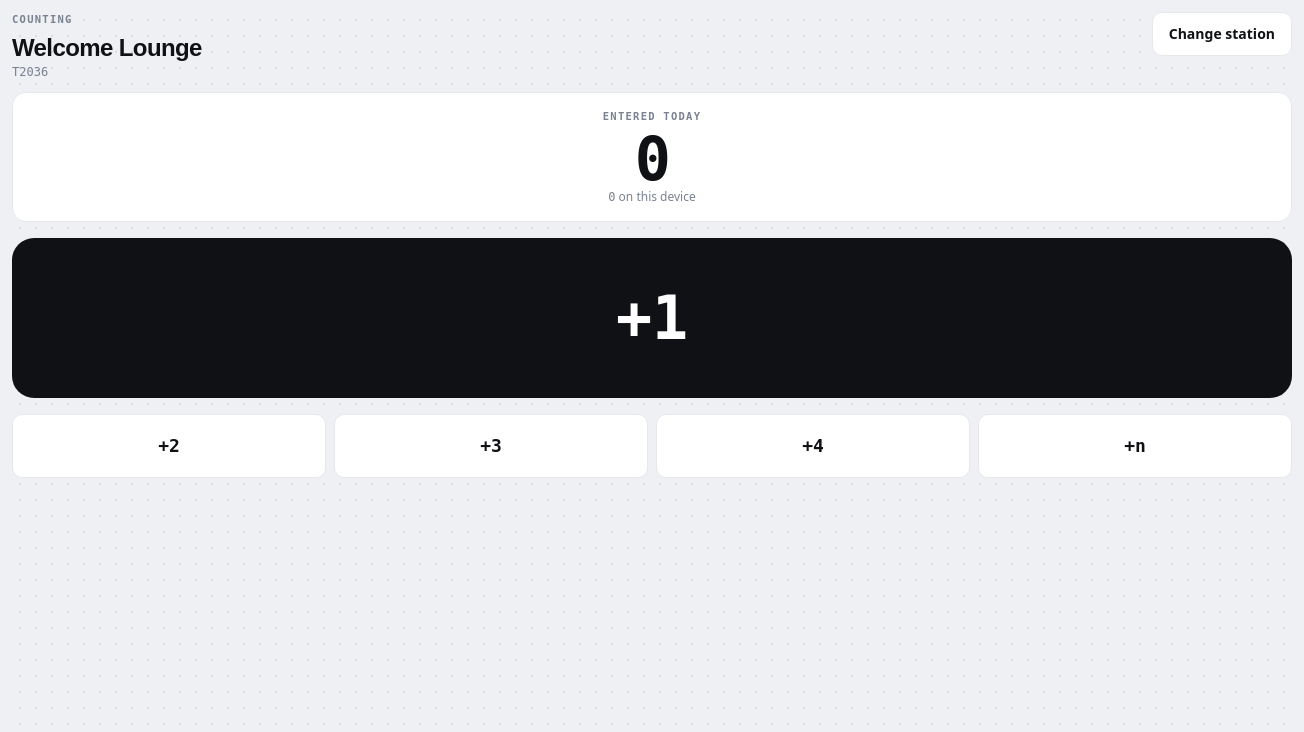
Test case: Footfall screens › FR-FOOT-1: +1 five times and +3 counts 8 people at the chosen room
expect the heading "Welcome Lounge" is shown: met, box [12,32,202,64]
expect the text "T2036" is shown: met, box [12,65,48,79]
Click the button named "Add one person": (652, 318) [12,238,1292,398]
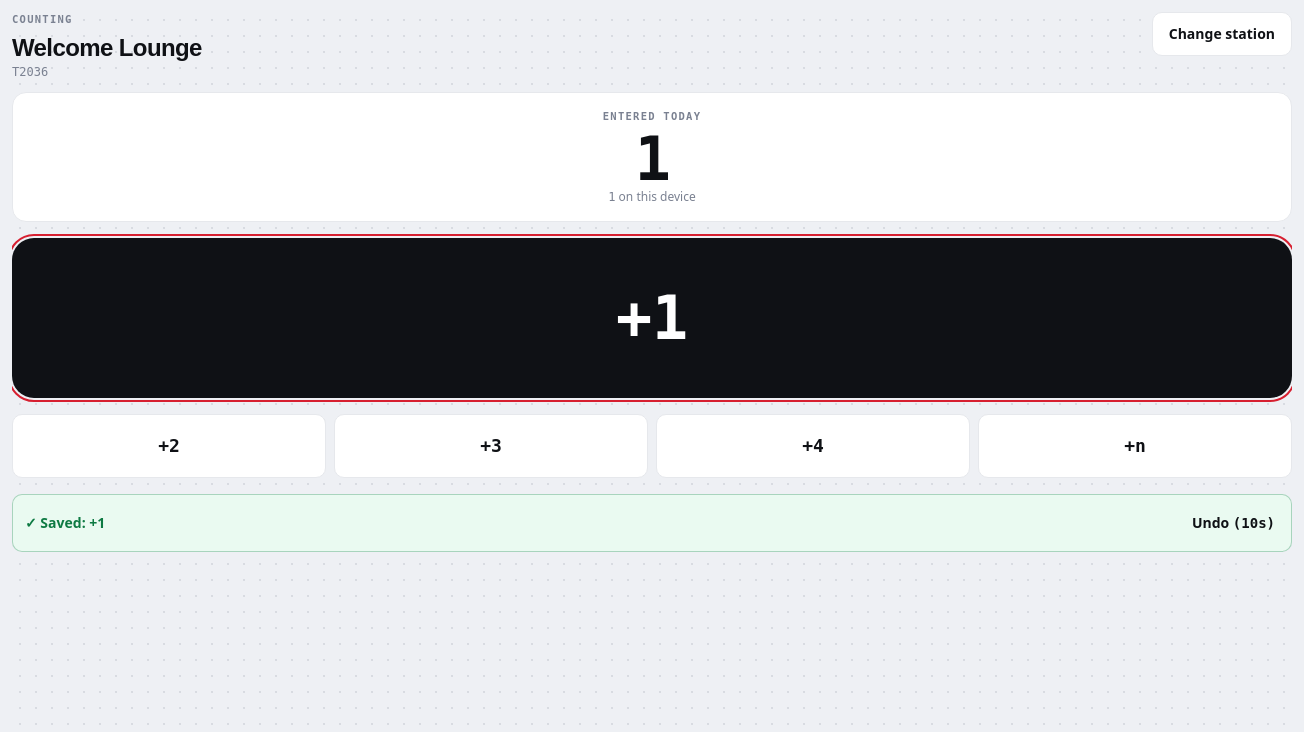
Click the button named "Add one person": (652, 318) [12,238,1292,398]
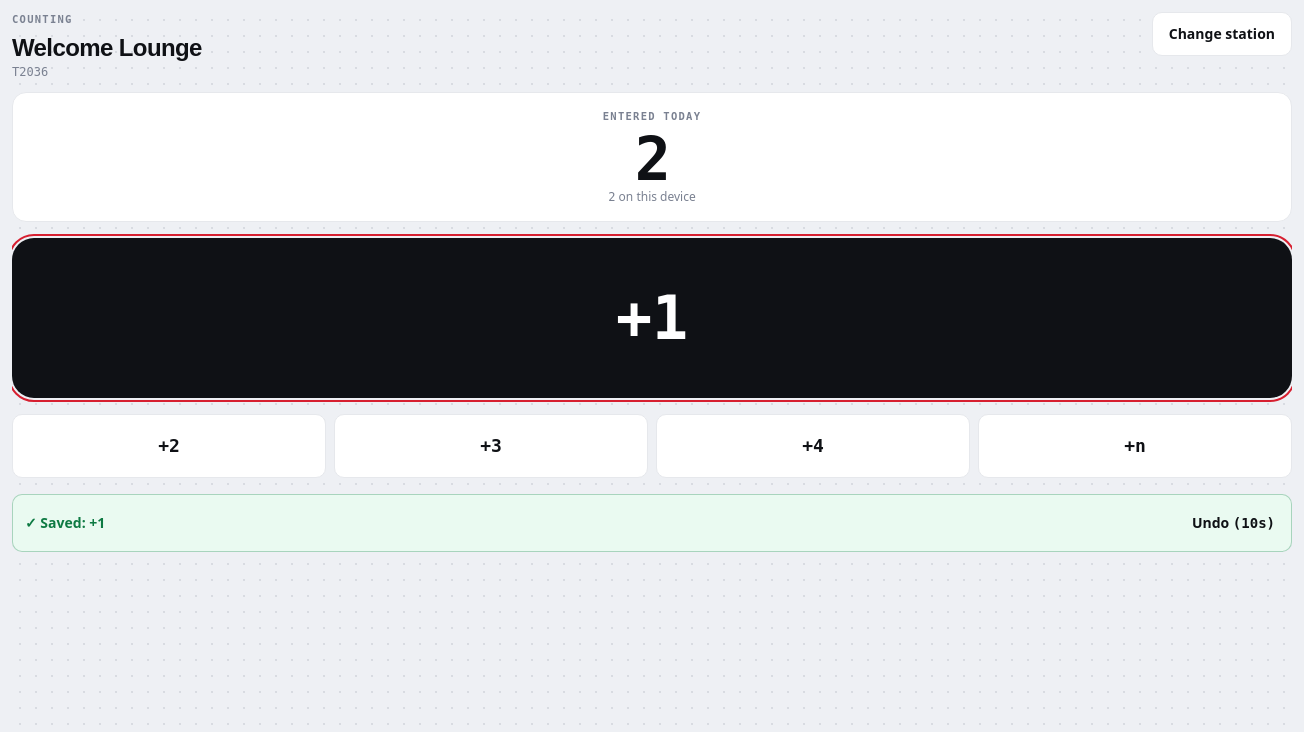
Click the button named "Add one person": (652, 318) [12,238,1292,398]
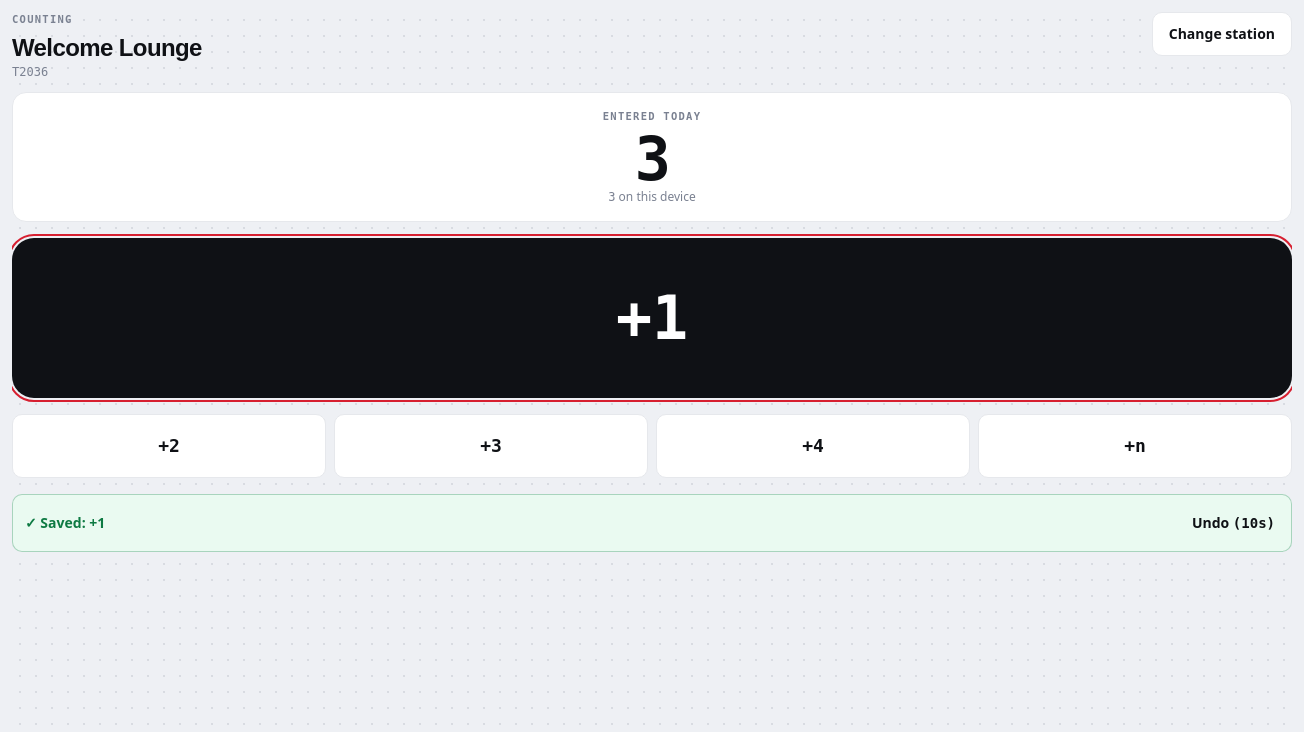
Click the button named "Add one person": (652, 318) [12,238,1292,398]
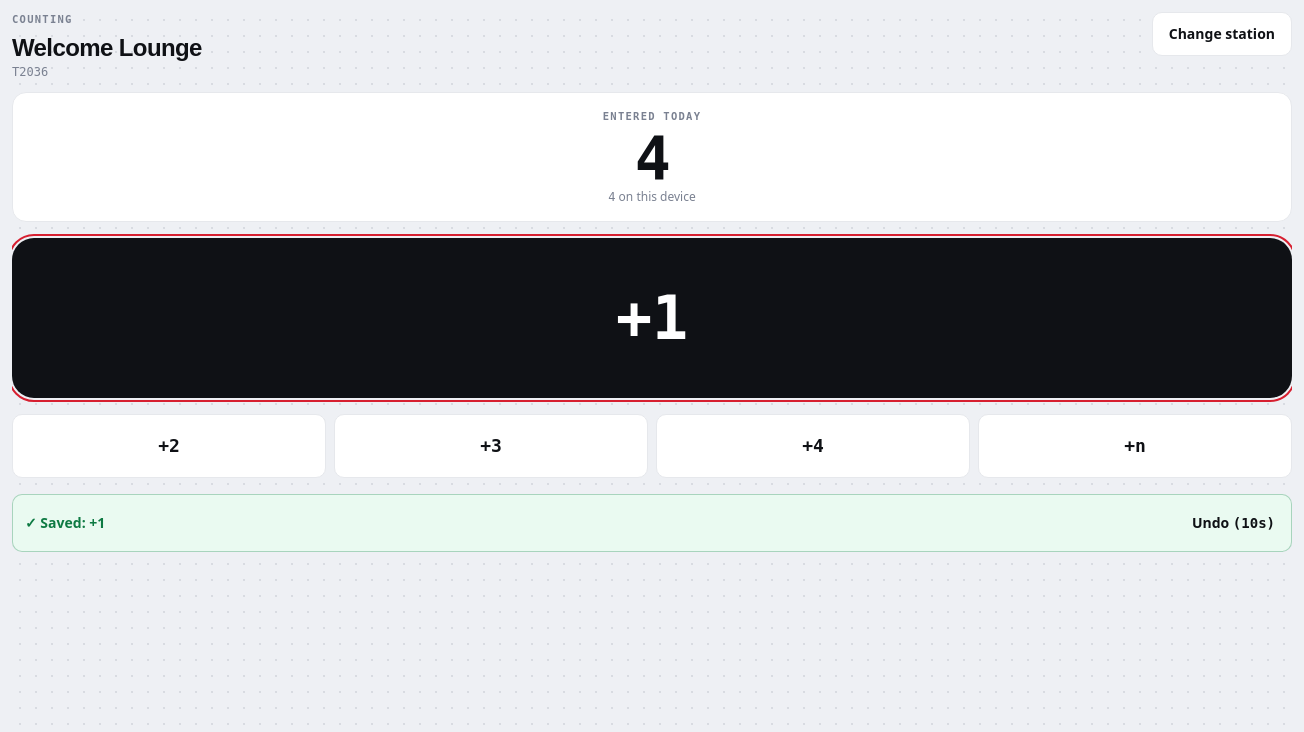
Click the button named "Add one person": (652, 318) [12,238,1292,398]
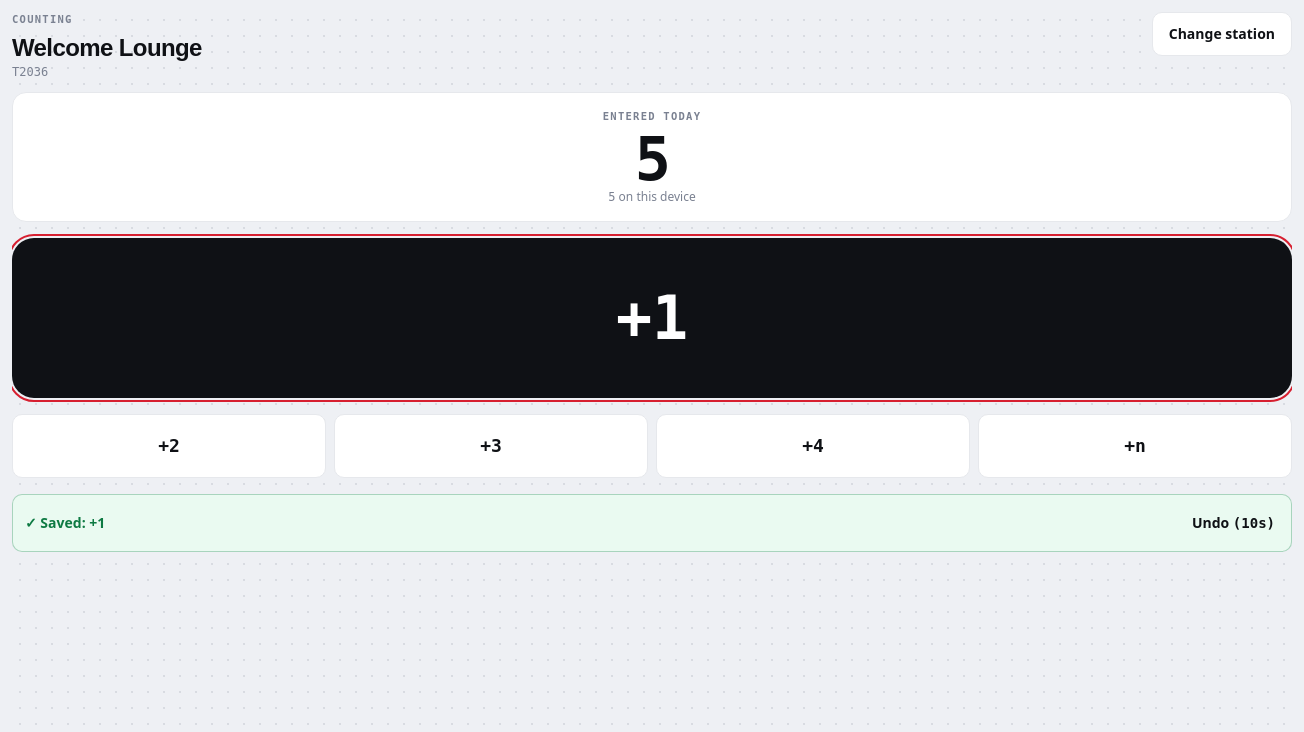
Click the button named "Add 3 people": (491, 446) [334,414,648,478]
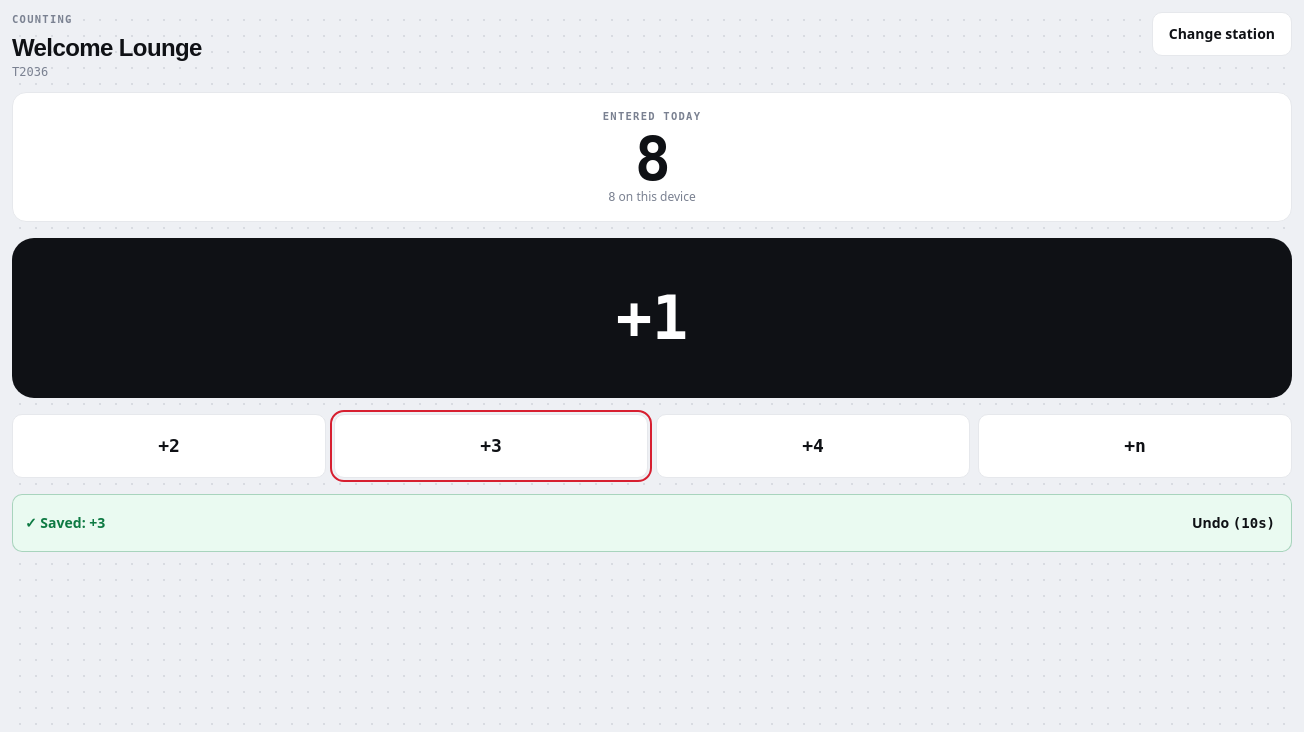
expect the text with test id "station-total" reads "8": met, box [635,124,669,194]
